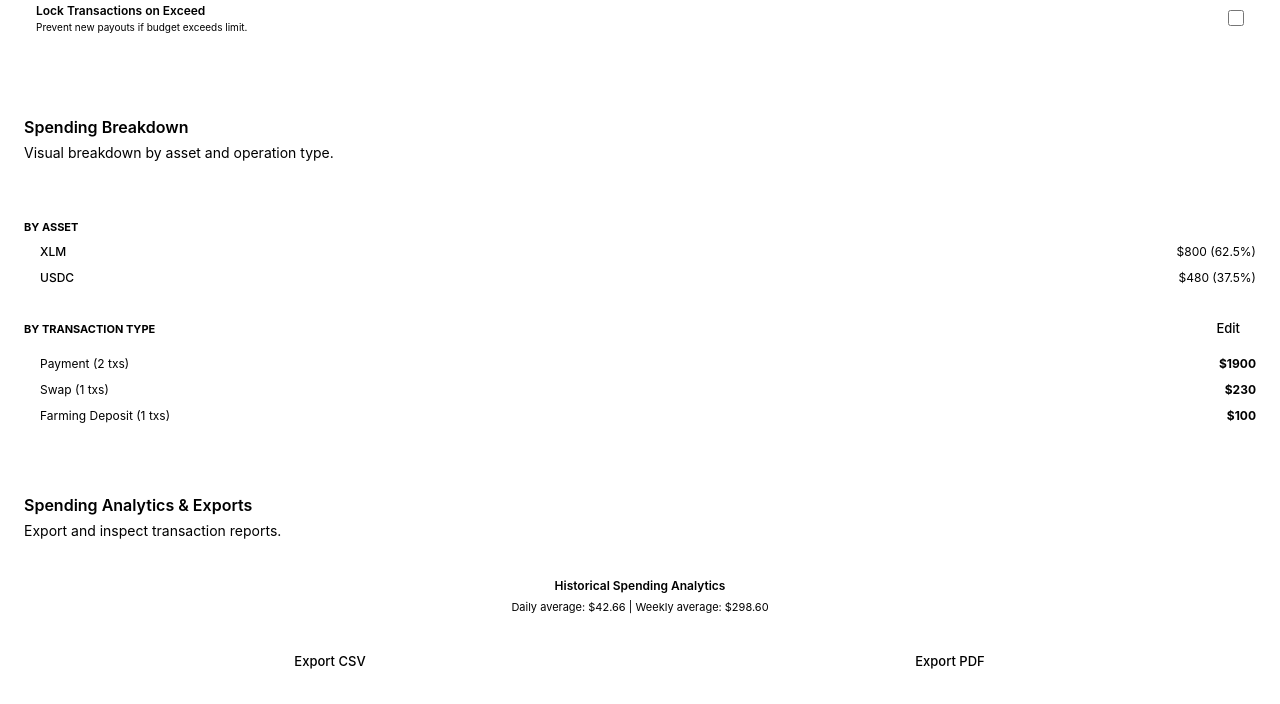
Test: BudgetScreen › exports spending reports successfully
This screenshot has width=1280, height=704.
Later steps or results of the test are not shown.
(page scrolled)
Click the button "Export CSV" at (330, 662), box [24,644,636,680]
Wait 1000 ms
(page scrolled)
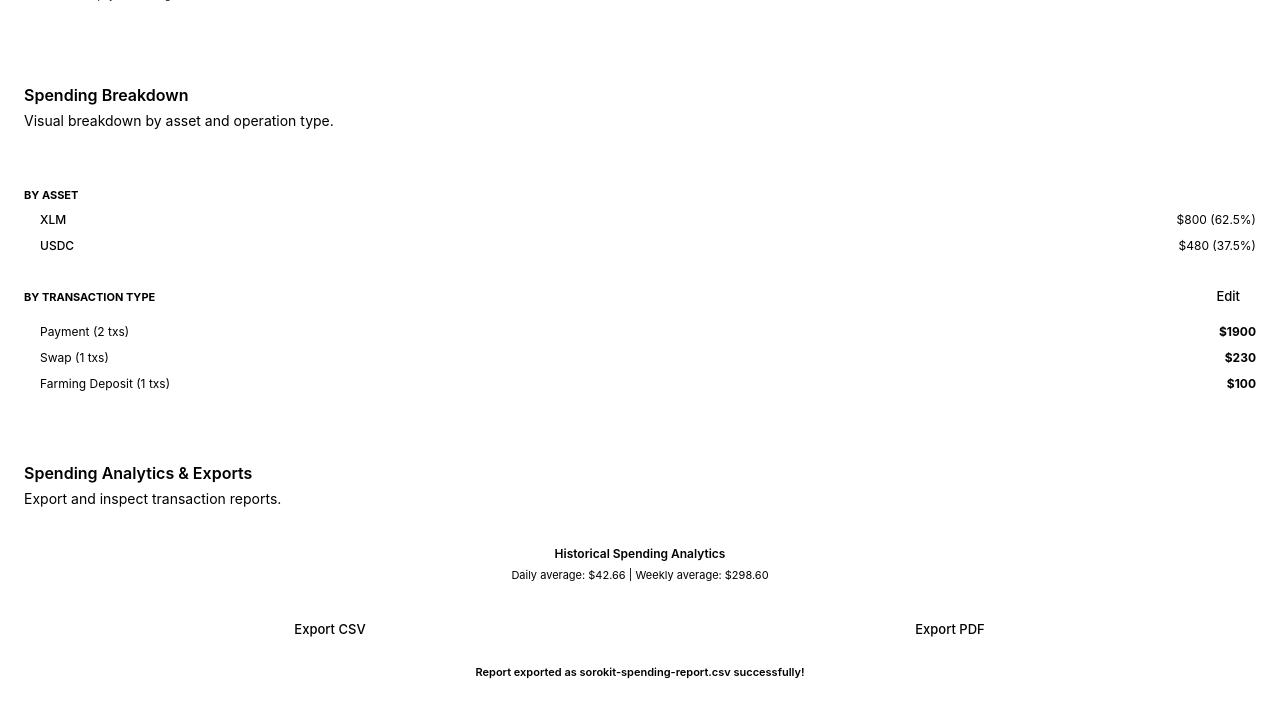
Expected: the text with test id "export-status" shows "Report exported as sorokit-spending-report.csv", [476,664,804,678]
